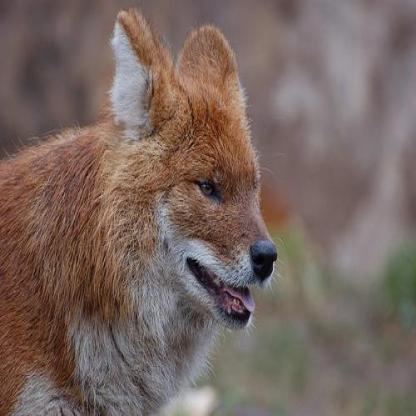dhole: (0, 6, 278, 414)
